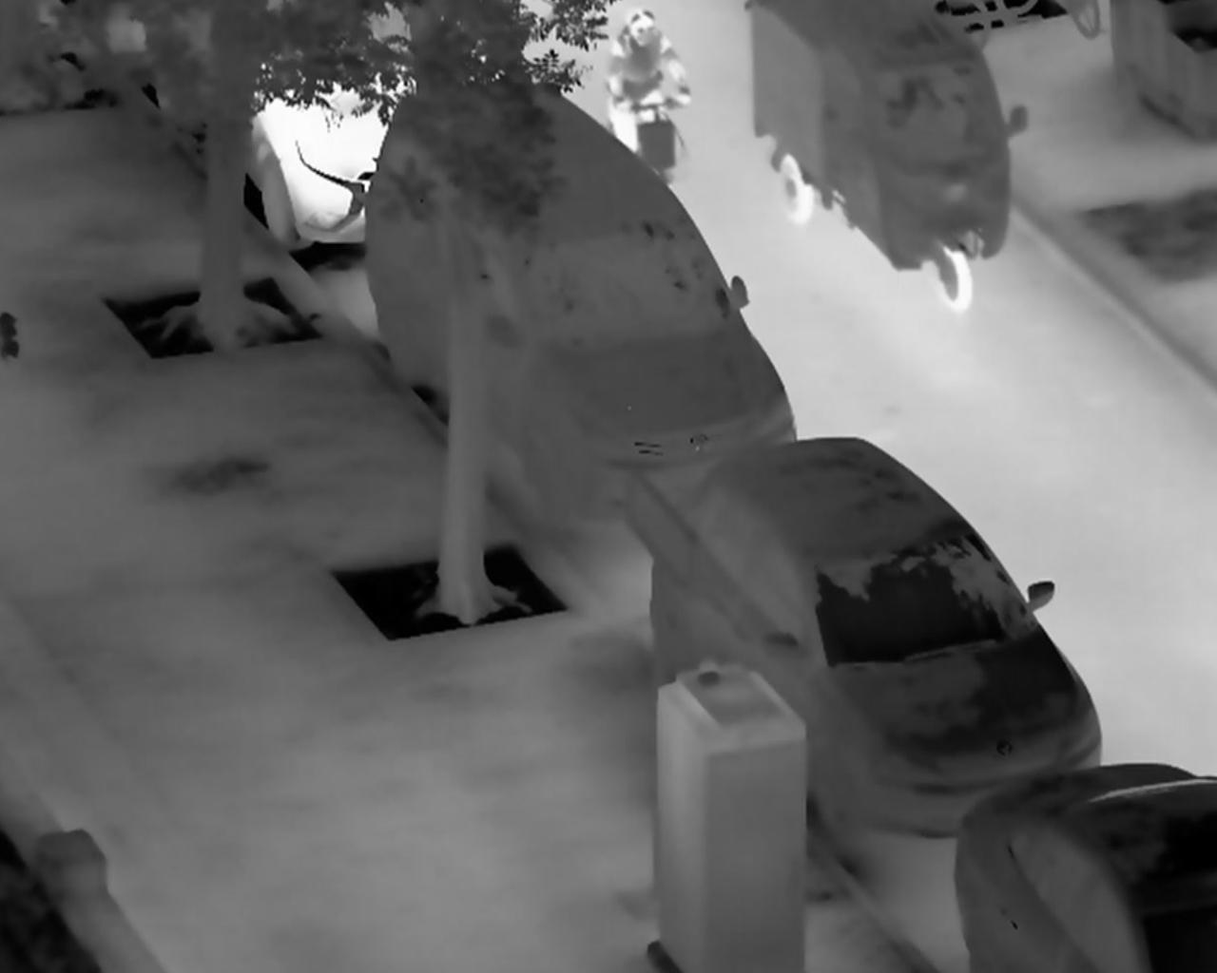person: (605, 8, 693, 159)
